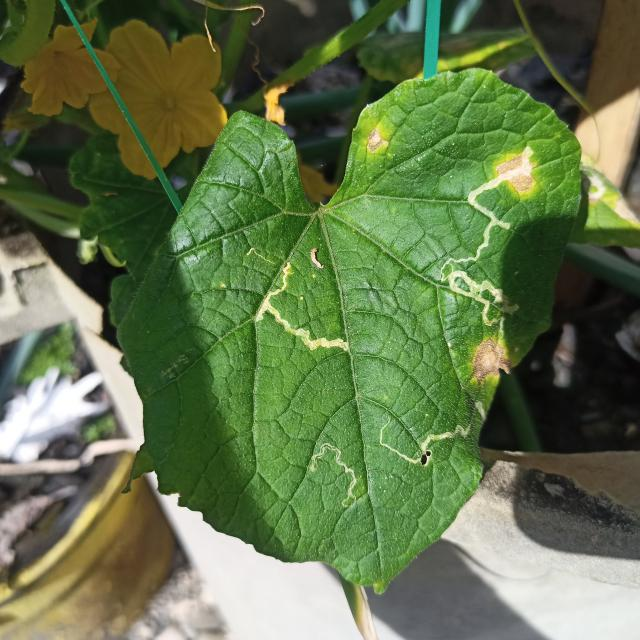disease_cucumber: (466, 332, 512, 387), (496, 152, 537, 197), (366, 129, 386, 153)
